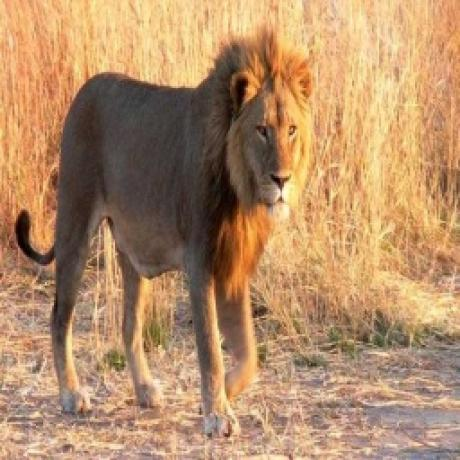Lion: (13, 30, 315, 430)
